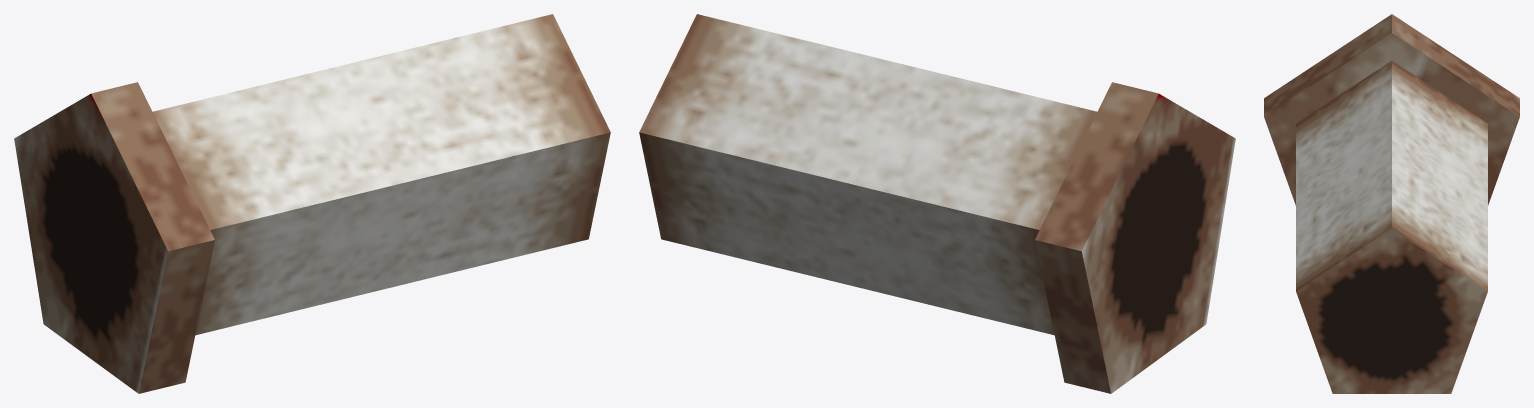
Rendered from Pipe1.obj.
3 renders of one model, left to right at view 1: azimuth 30°, elevation 25°; view 2: azimuth 150°, elevation 25°; view 3: azimuth 270°, elevation 25°, orthographic. The views are drawn at different scales.
Parts seen in each view (by area): view 1: Pipe_Short; view 2: Pipe_Short; view 3: Pipe_Short.
Part boxes in pixels (x1,y1,x2,y2): Pipe_Short: (14,14,610,393); Pipe_Short: (639,14,1235,393); Pipe_Short: (1264,14,1519,393).
Bounding box in the file's own units: 0.4938 × 0.2714 × 0.2853.
Materials: 1 (1 with a texture image).
